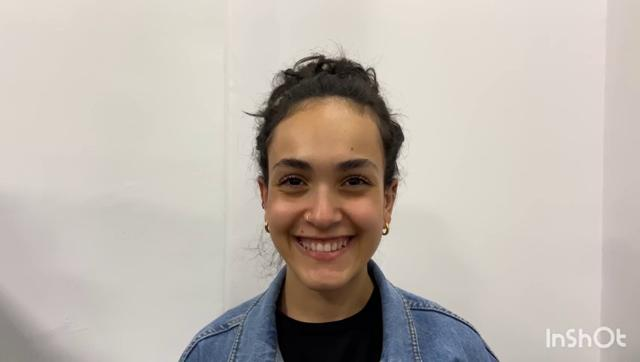senang: (263, 98, 386, 292)
